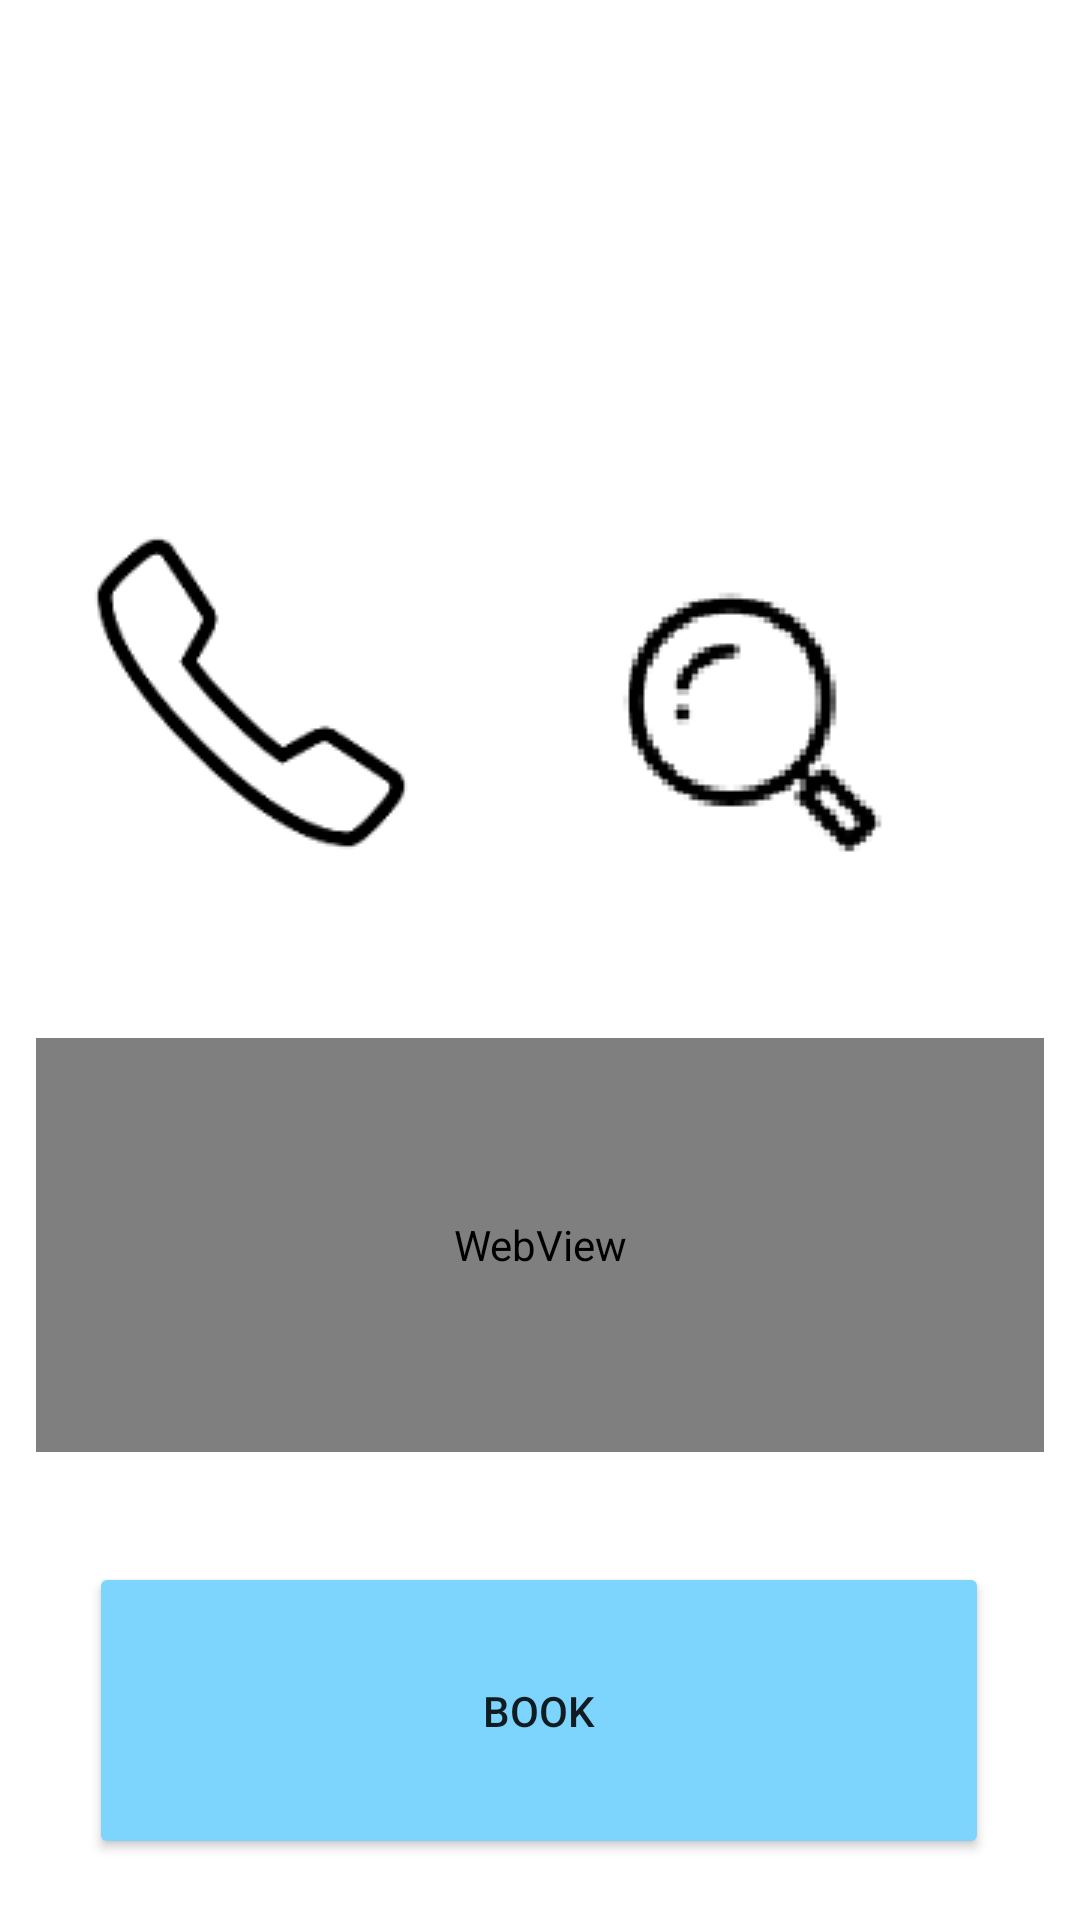

Locate icon controls on the screen. Image size 1080 × 1920, boxes as (x1, y1, x2, y2).
phone: (97, 538, 405, 847)
search: (628, 593, 882, 852)
